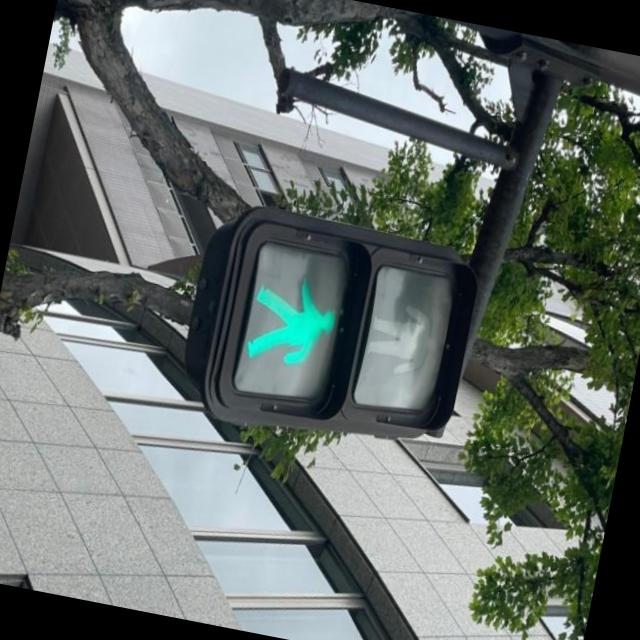green_light: (236, 260, 352, 388)
